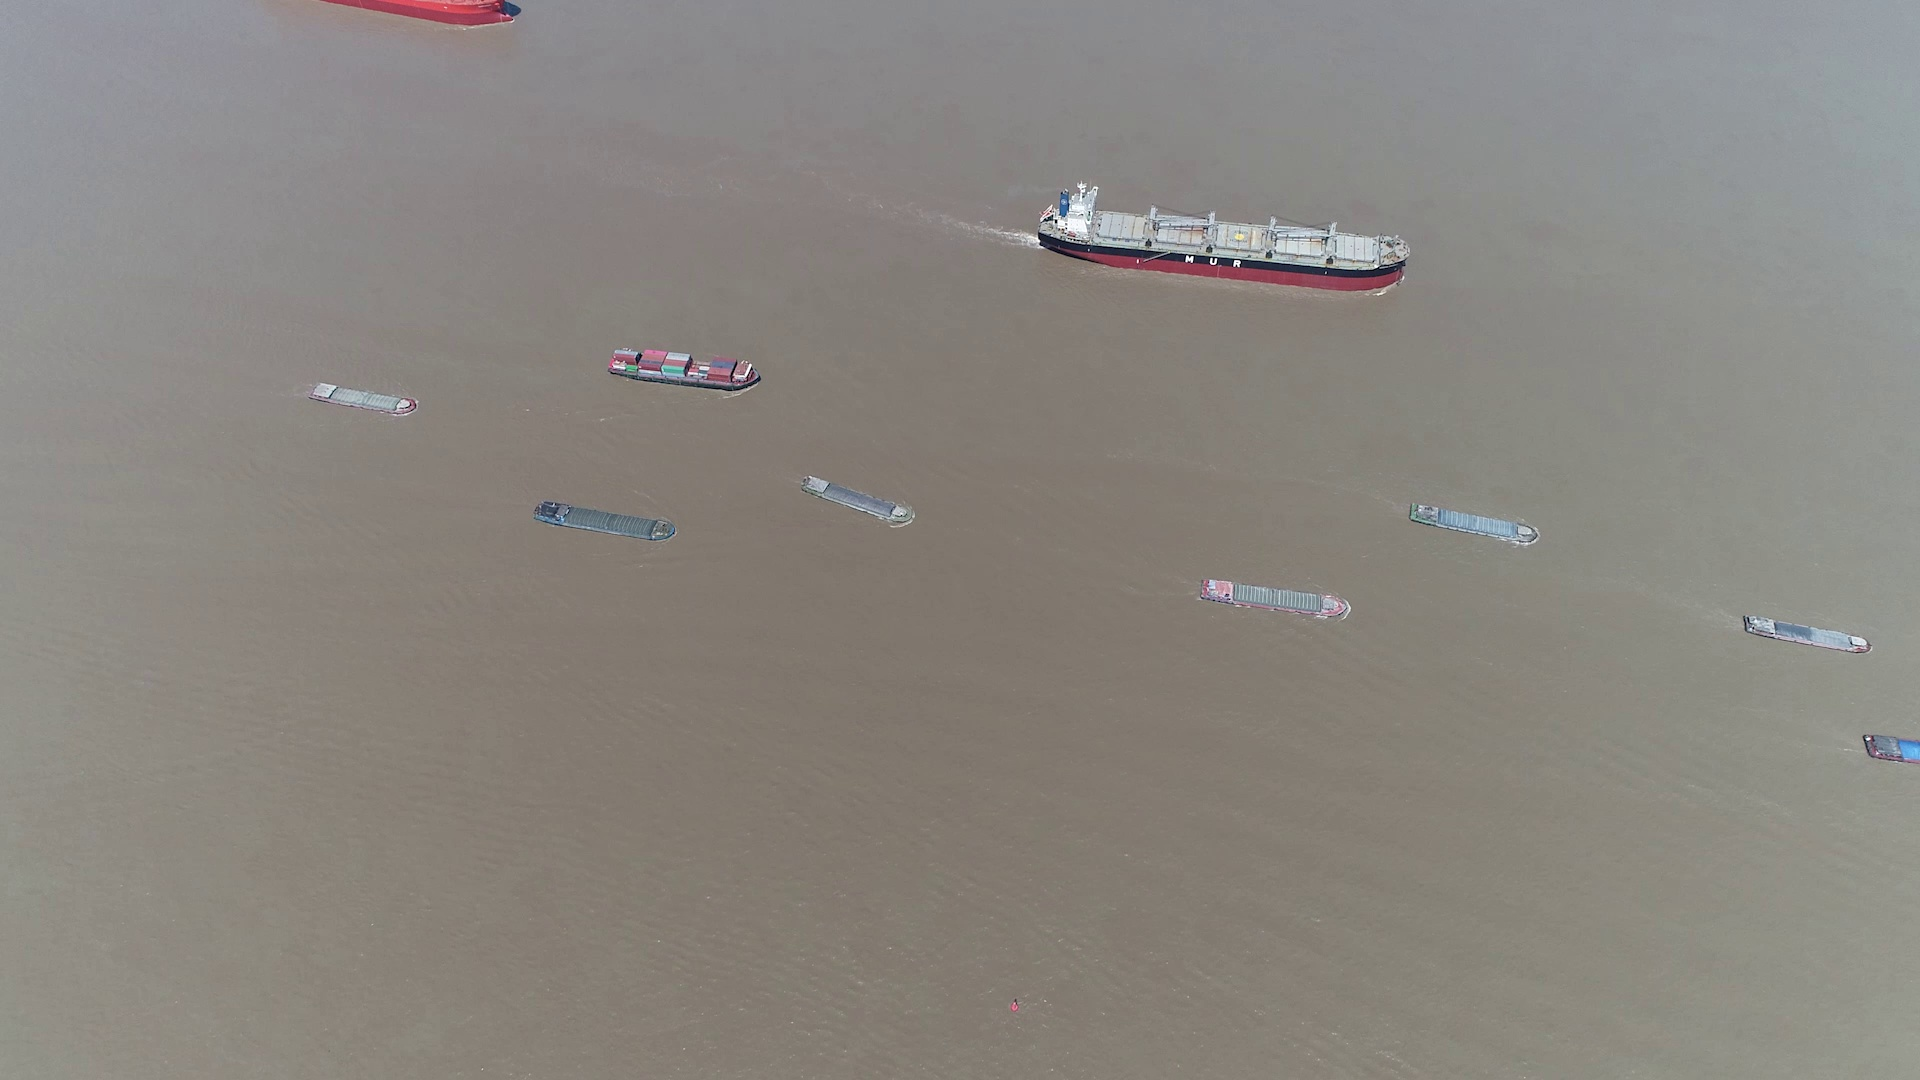ship: (1039, 185, 1410, 290), (608, 348, 762, 390), (1200, 578, 1350, 620), (1406, 500, 1540, 546), (534, 501, 676, 543), (1739, 613, 1873, 655), (804, 477, 915, 527), (309, 381, 419, 415), (1865, 733, 1919, 766)
